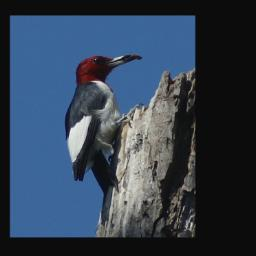Woodpecker: (64, 53, 141, 227)
